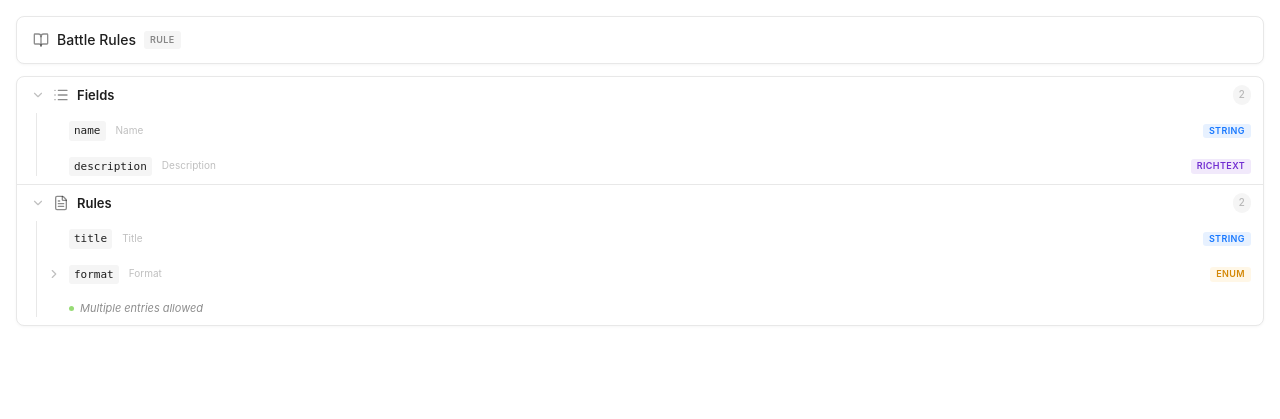
Test: SchemaTreeView › tree node interactions › expands enum field to show options
This screenshot has width=1280, height=419.
expect the text "name-description" is not shown: met
// Click the format field to expand its options
Click the text "format" at [94, 274], box 69,265 -> 119,284
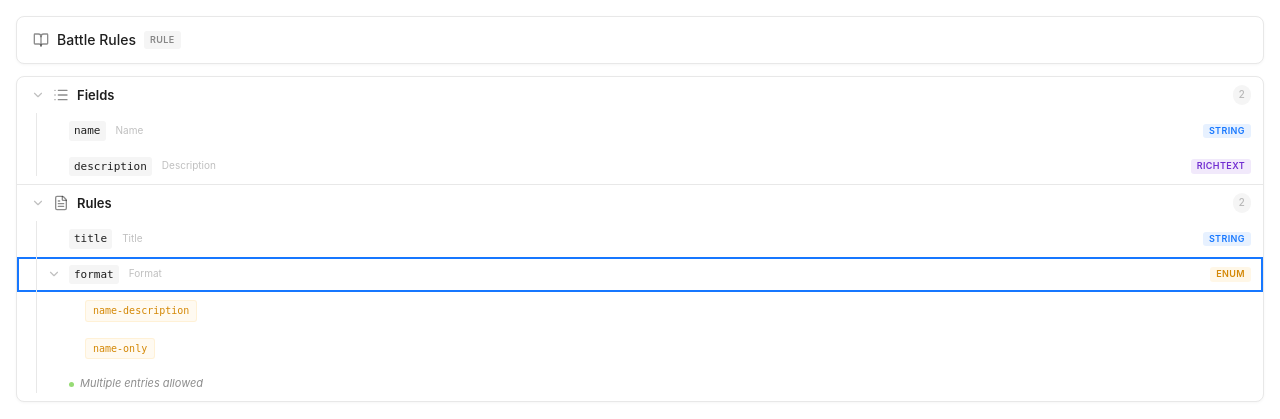
expect the text "name-description" is shown: met, box 85,300 -> 197,322
expect the text "name-only" is shown: met, box 85,338 -> 155,359
// Click again to collapse
Click the text "format" at [94, 274], box 69,265 -> 119,284
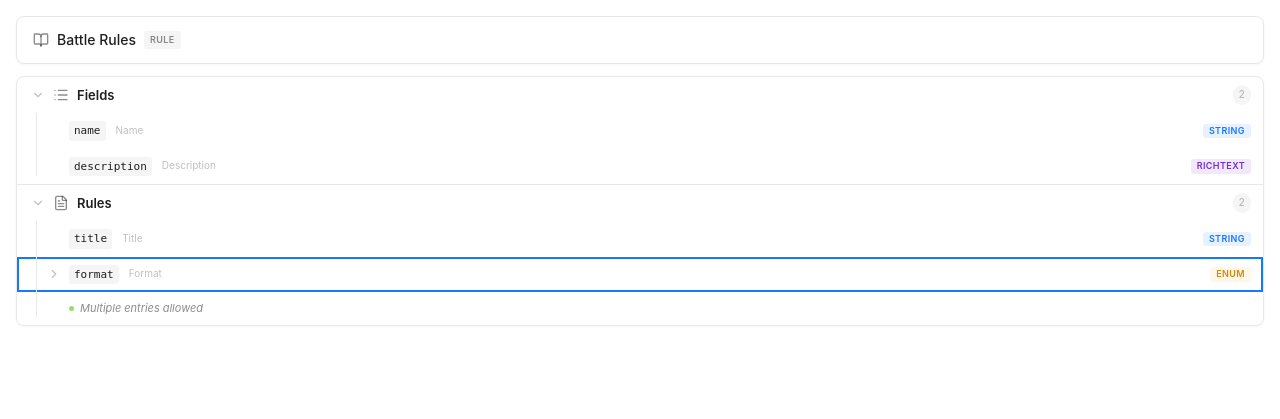
expect the text "name-description" is gone: met
